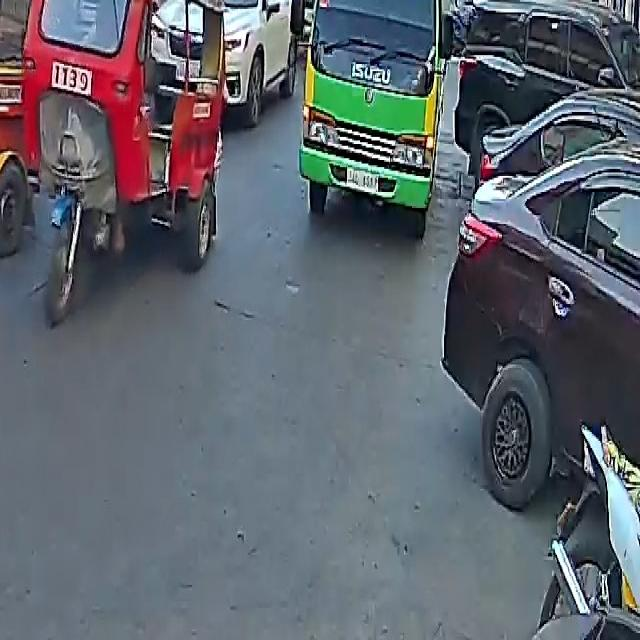car: (444, 84, 640, 525), (454, 0, 640, 183), (194, 0, 294, 121)
